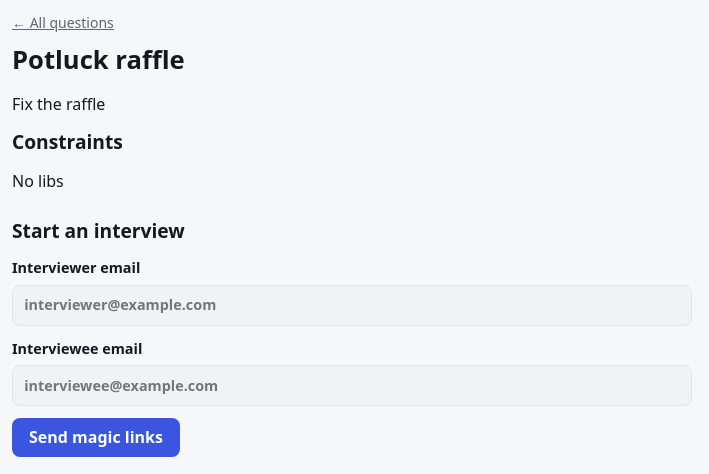
Test: QuestionPage › says magic links were sent to both when both succeed
Check: the heading "Potluck raffle" is shown, box [12,42,185,77]
Type "a@example.com" into the field labelled "Interviewer email" at (352, 305), box [12,284,692,326]
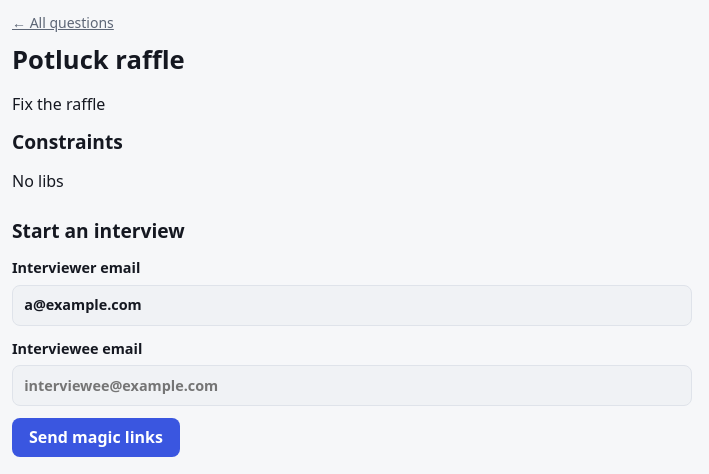
Type "b@example.com" into the field labelled "Interviewee email" at (352, 386), box [12,365,692,406]
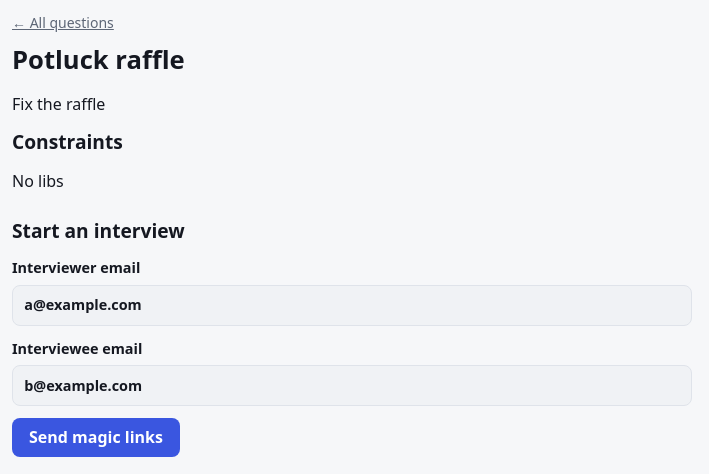
Click the button "Send magic links" at (96, 437), box [12,418,180,457]
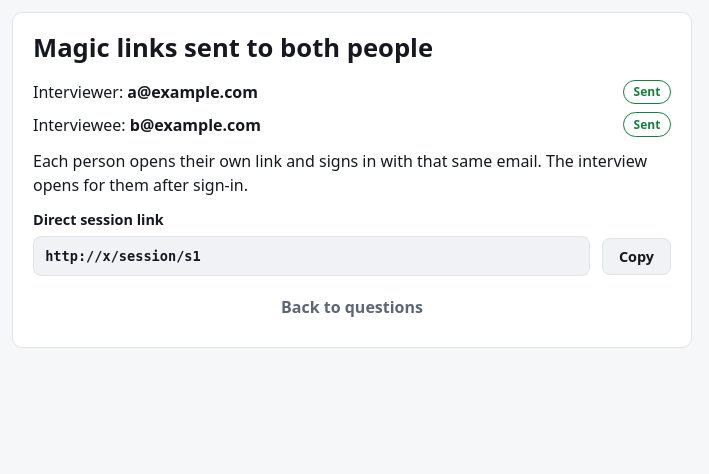
Check: the heading "Magic links sent to both people" is shown, box [33,30,433,65]
